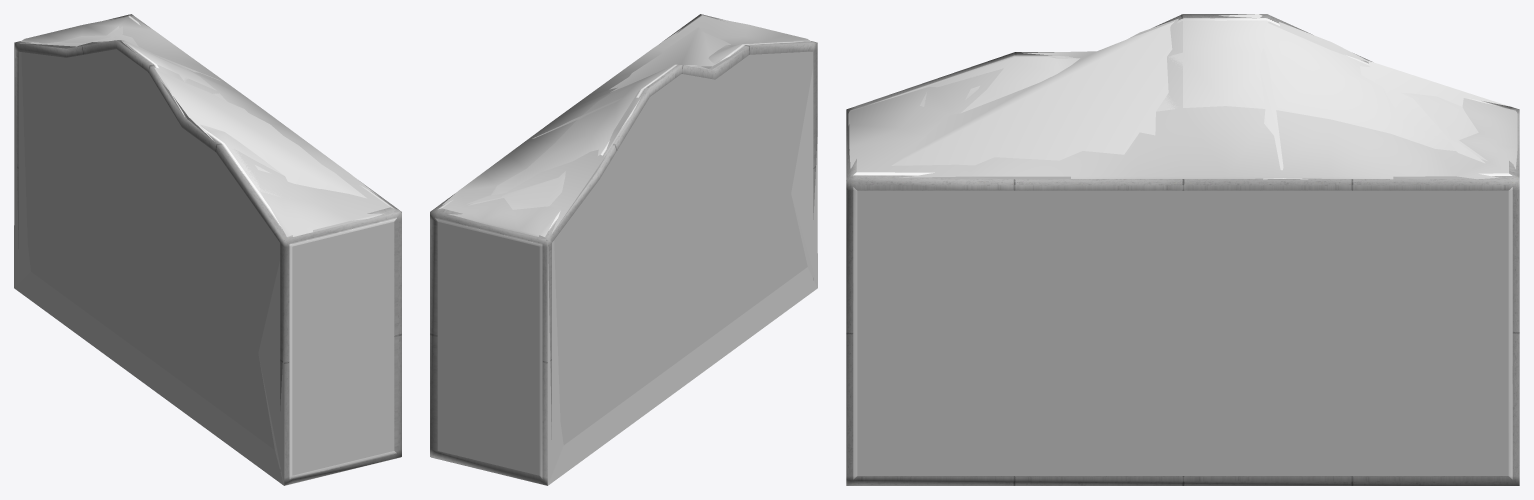
File: s_gm_crawl_10.dae
The picture shows the model from 3 angles, left to right: view 1: azimuth 30°, elevation 25°; view 2: azimuth 150°, elevation 25°; view 3: azimuth 270°, elevation 25°; orthographic projection. The views are drawn at different scales.
Parts seen in each view (by area): view 1: Colmesh_crawl_10-1, crawl_10_a25, crawl_10_a100, crawl_10_a50; view 2: Colmesh_crawl_10-1, crawl_10_a50, crawl_10_a25, crawl_10_a100; view 3: crawl_10_a50, Colmesh_crawl_10-1, crawl_10_a100, crawl_10_a25.
Part boxes in pixels (x1,y1,x2,y2): Colmesh_crawl_10-1: (20, 16, 394, 475); crawl_10_a25: (14, 26, 400, 485); crawl_10_a100: (14, 14, 401, 485); crawl_10_a50: (27, 26, 283, 260); Colmesh_crawl_10-1: (442, 16, 813, 444); crawl_10_a50: (437, 15, 776, 475); crawl_10_a25: (431, 27, 817, 485); crawl_10_a100: (430, 14, 817, 485); crawl_10_a50: (857, 20, 1508, 475); Colmesh_crawl_10-1: (848, 18, 1517, 413); crawl_10_a100: (846, 14, 1519, 485); crawl_10_a25: (891, 14, 1508, 179).
Size of the model in its own units: 2.01 by 8.01 by 5.28.
